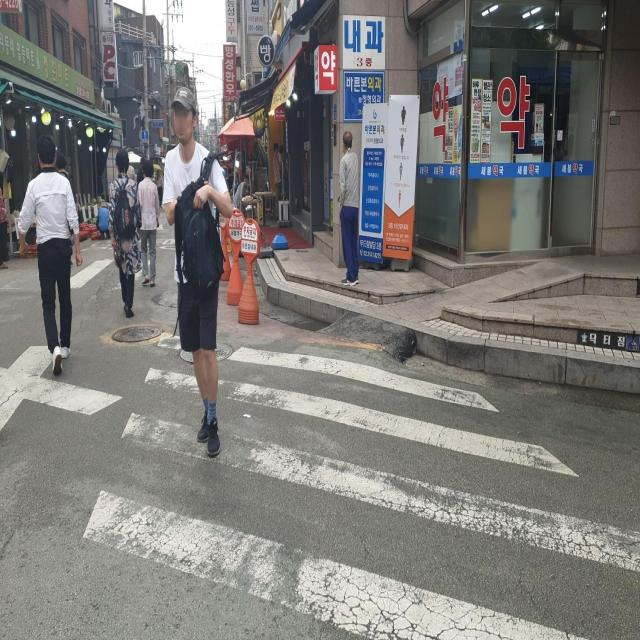횡단보도: (78, 327, 640, 640)
